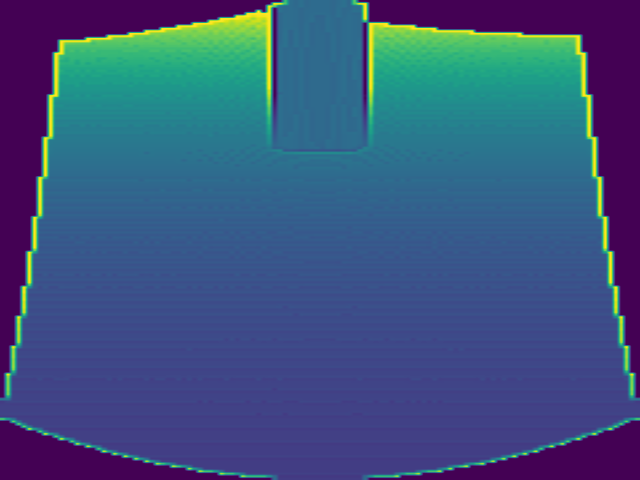cylinder: (264, 1, 374, 154)
